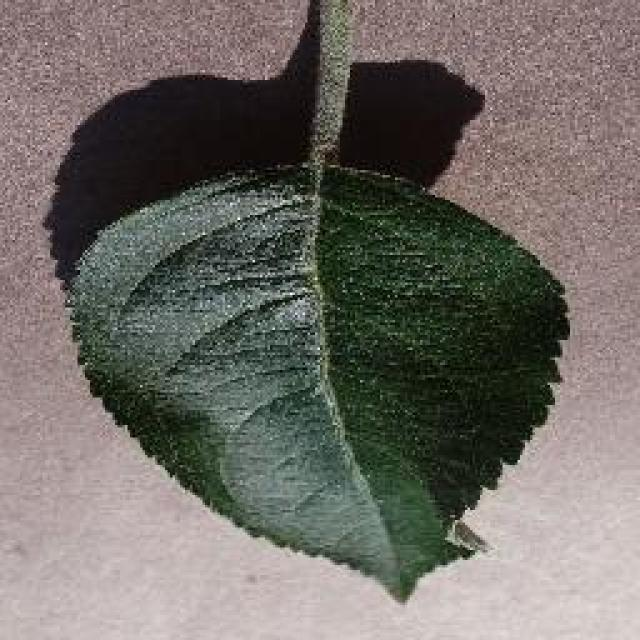apple healthy: (42, 0, 572, 602)
